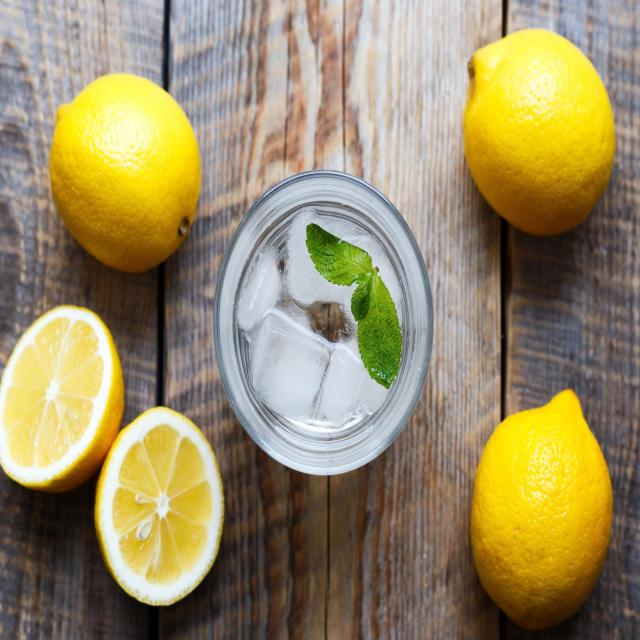lemon: (465, 381, 616, 634), (457, 24, 618, 241), (46, 65, 206, 278)
